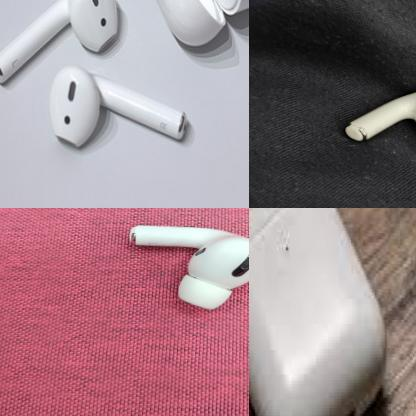Airpods: (110, 210, 249, 321), (47, 63, 190, 152), (0, 0, 141, 89), (326, 74, 416, 163)
